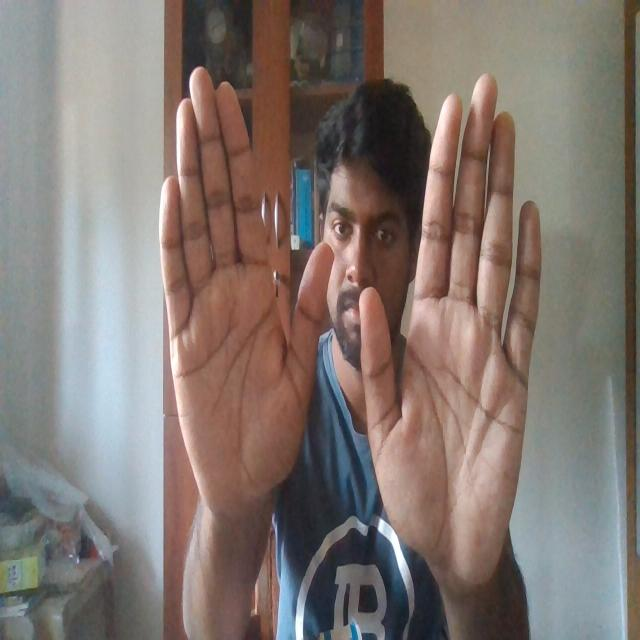ThankYou: (150, 34, 547, 580)
